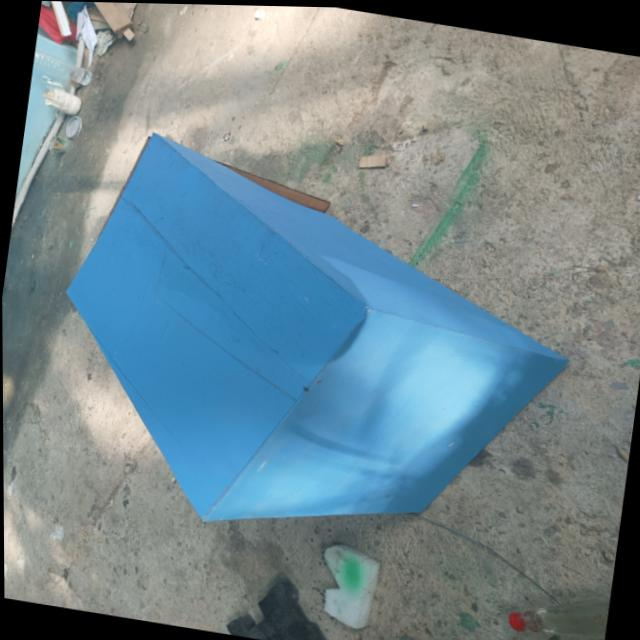blue_box: (24, 120, 601, 574)
